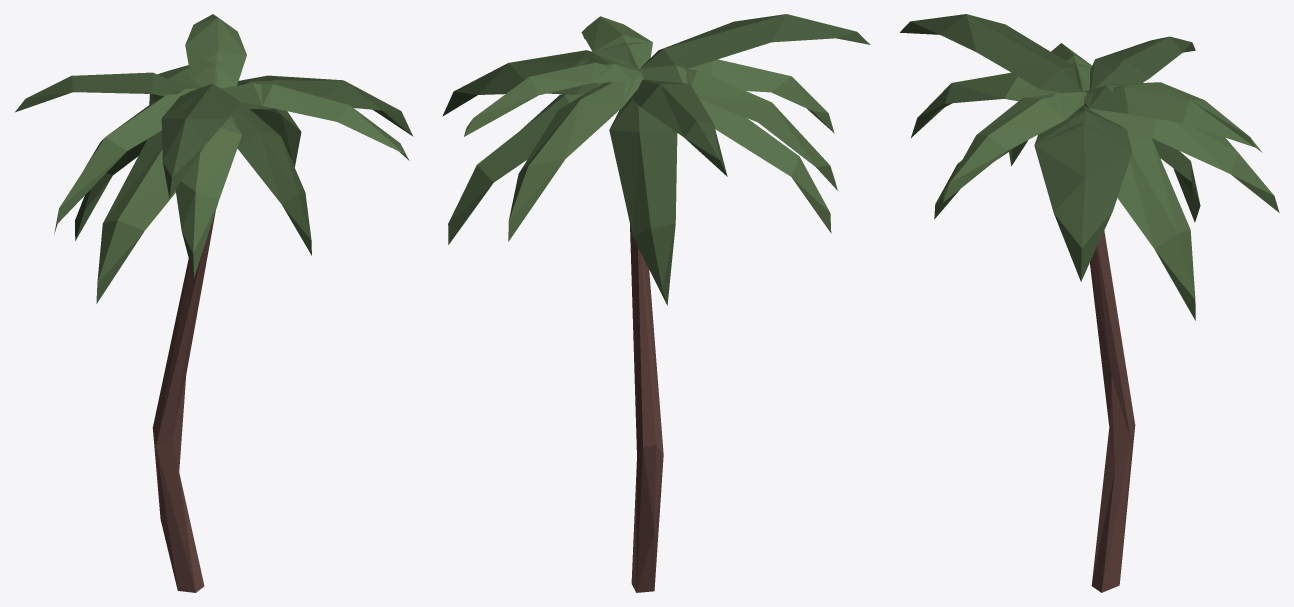
The model's file is PalmTree_3.lod2.glb.
3 renders of one model, left to right at view 1: azimuth 30°, elevation 25°; view 2: azimuth 150°, elevation 25°; view 3: azimuth 270°, elevation 25°, orthographic.
Parts seen in each view (by area): view 1: PalmTree_3; view 2: PalmTree_3; view 3: PalmTree_3.
Part boxes in pixels (x1,y1,x2,y2): PalmTree_3: (15, 14, 413, 592); PalmTree_3: (442, 14, 870, 592); PalmTree_3: (900, 14, 1279, 592).
Bounding box in the file's own units: 2.88 × 3.94 × 2.53.
